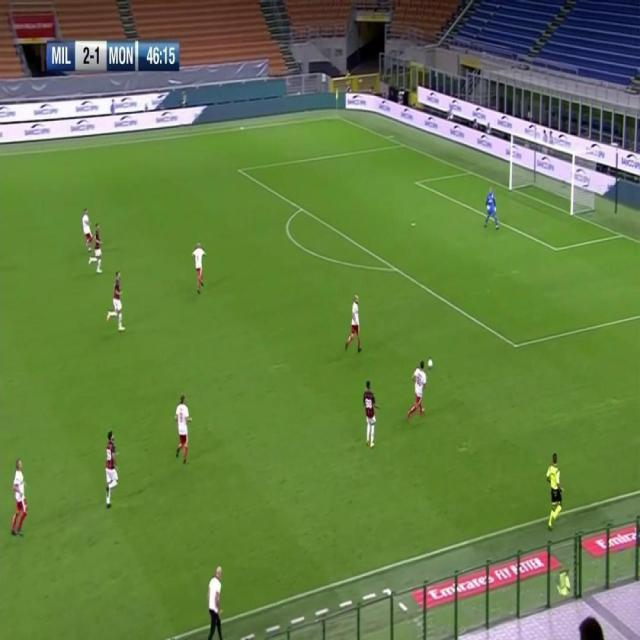ball: (428, 358, 435, 370)
goalkeeper: (483, 185, 500, 231)
player: (9, 458, 29, 539), (173, 393, 193, 467), (103, 427, 120, 510), (407, 359, 429, 421), (107, 270, 127, 334), (363, 380, 380, 451), (344, 293, 363, 355), (192, 237, 208, 295), (91, 222, 104, 275), (81, 206, 93, 256)
referee: (545, 450, 565, 533)
